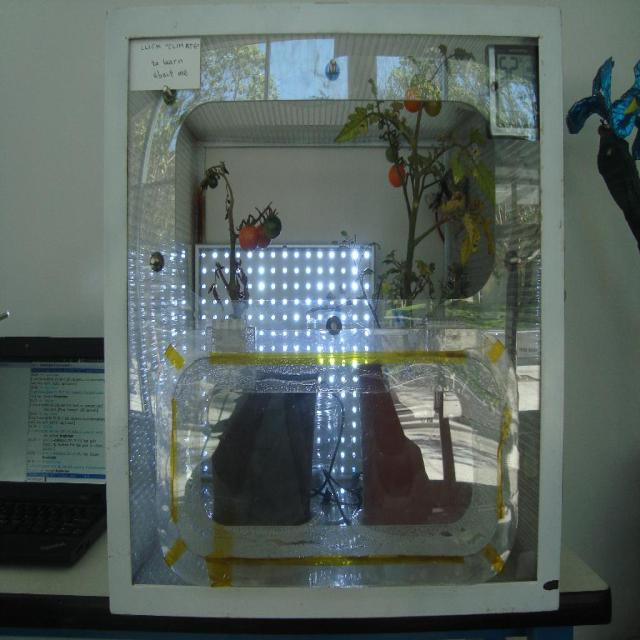Laptop: (0, 353, 105, 600)
